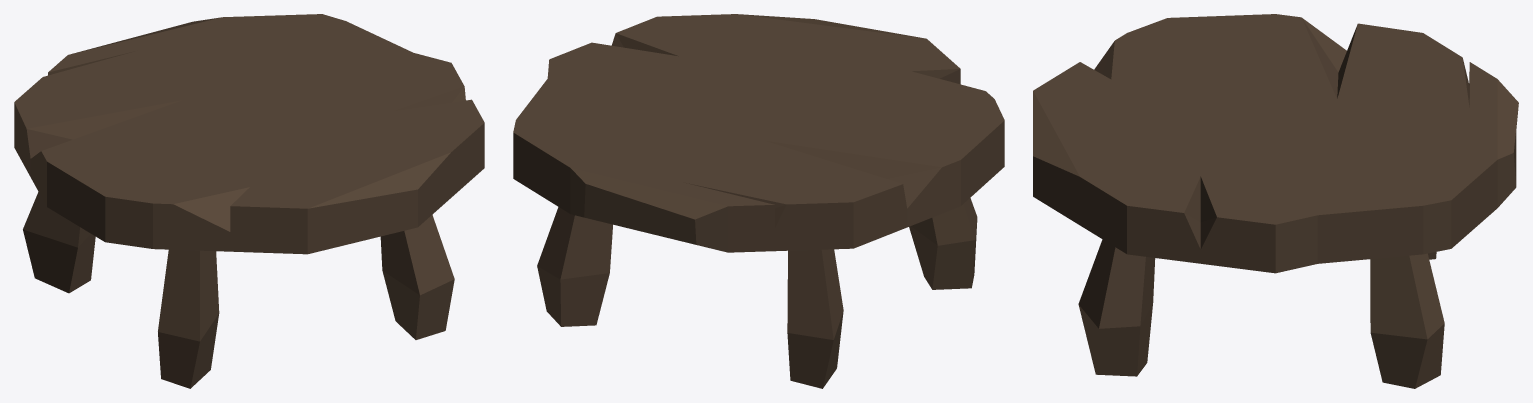
File: Table_Round.fbx
3 views of the same model, side by side, from view 1: azimuth 30°, elevation 25°; view 2: azimuth 150°, elevation 25°; view 3: azimuth 270°, elevation 25° (orthographic). The views are drawn at different scales.
Parts seen in each view (by area): view 1: Table_Round; view 2: Table_Round; view 3: Table_Round.
Boxes of the visible parts, x1=… form: Table_Round: x1=14, y1=14, x2=484, y2=388; Table_Round: x1=513, y1=14, x2=1004, y2=388; Table_Round: x1=1033, y1=14, x2=1518, y2=388.
Bounding box in the file's own units: 483 × 212 × 471.
